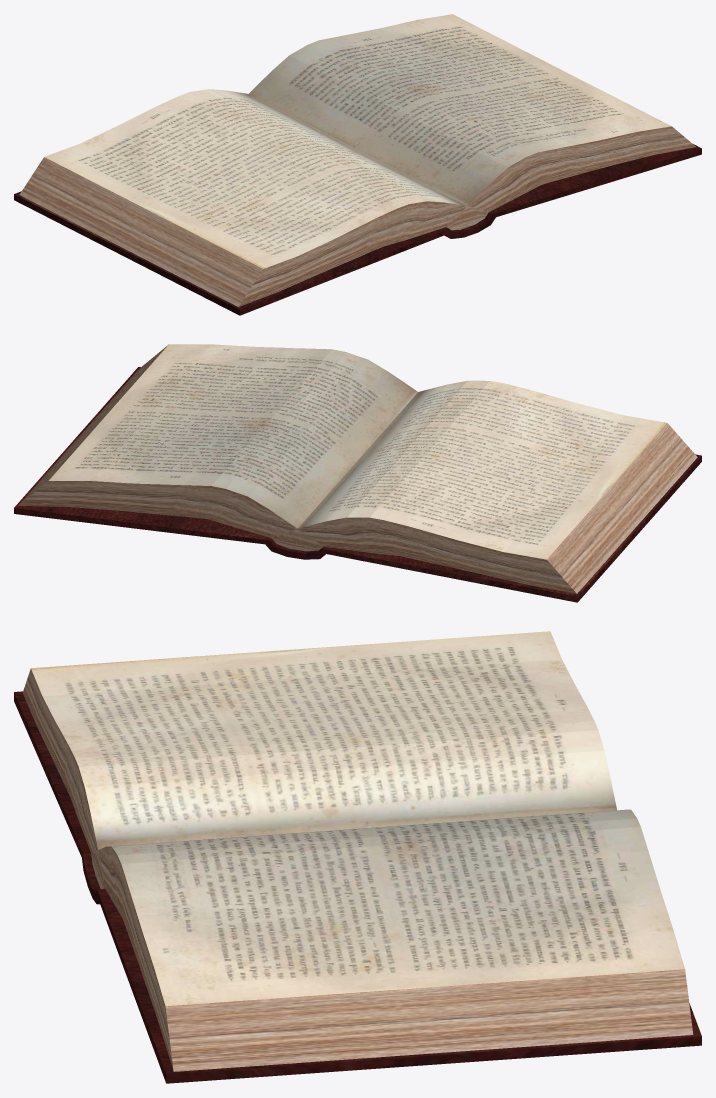
The model's file is BSN_Education_Ani_BookA.gltf.
3 renders of one model, top to bottom at view 1: azimuth 30°, elevation 25°; view 2: azimuth 150°, elevation 25°; view 3: azimuth 270°, elevation 25°, orthographic. The views are drawn at different scales.
Visible parts, largest first — view 1: openbook1; view 2: openbook1; view 3: openbook1.
Boxes of the visible parts, x1,y1,x2,y2 form: openbook1: (14,14,701,315); openbook1: (14,344,701,602); openbook1: (14,631,701,1083).
Bounding box in the file's own units: 17.29 × 1.65 × 11.96.
Materials: 1 (1 with a texture image).
